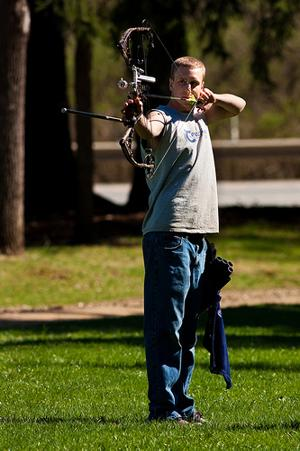person: (123, 52, 249, 423)
